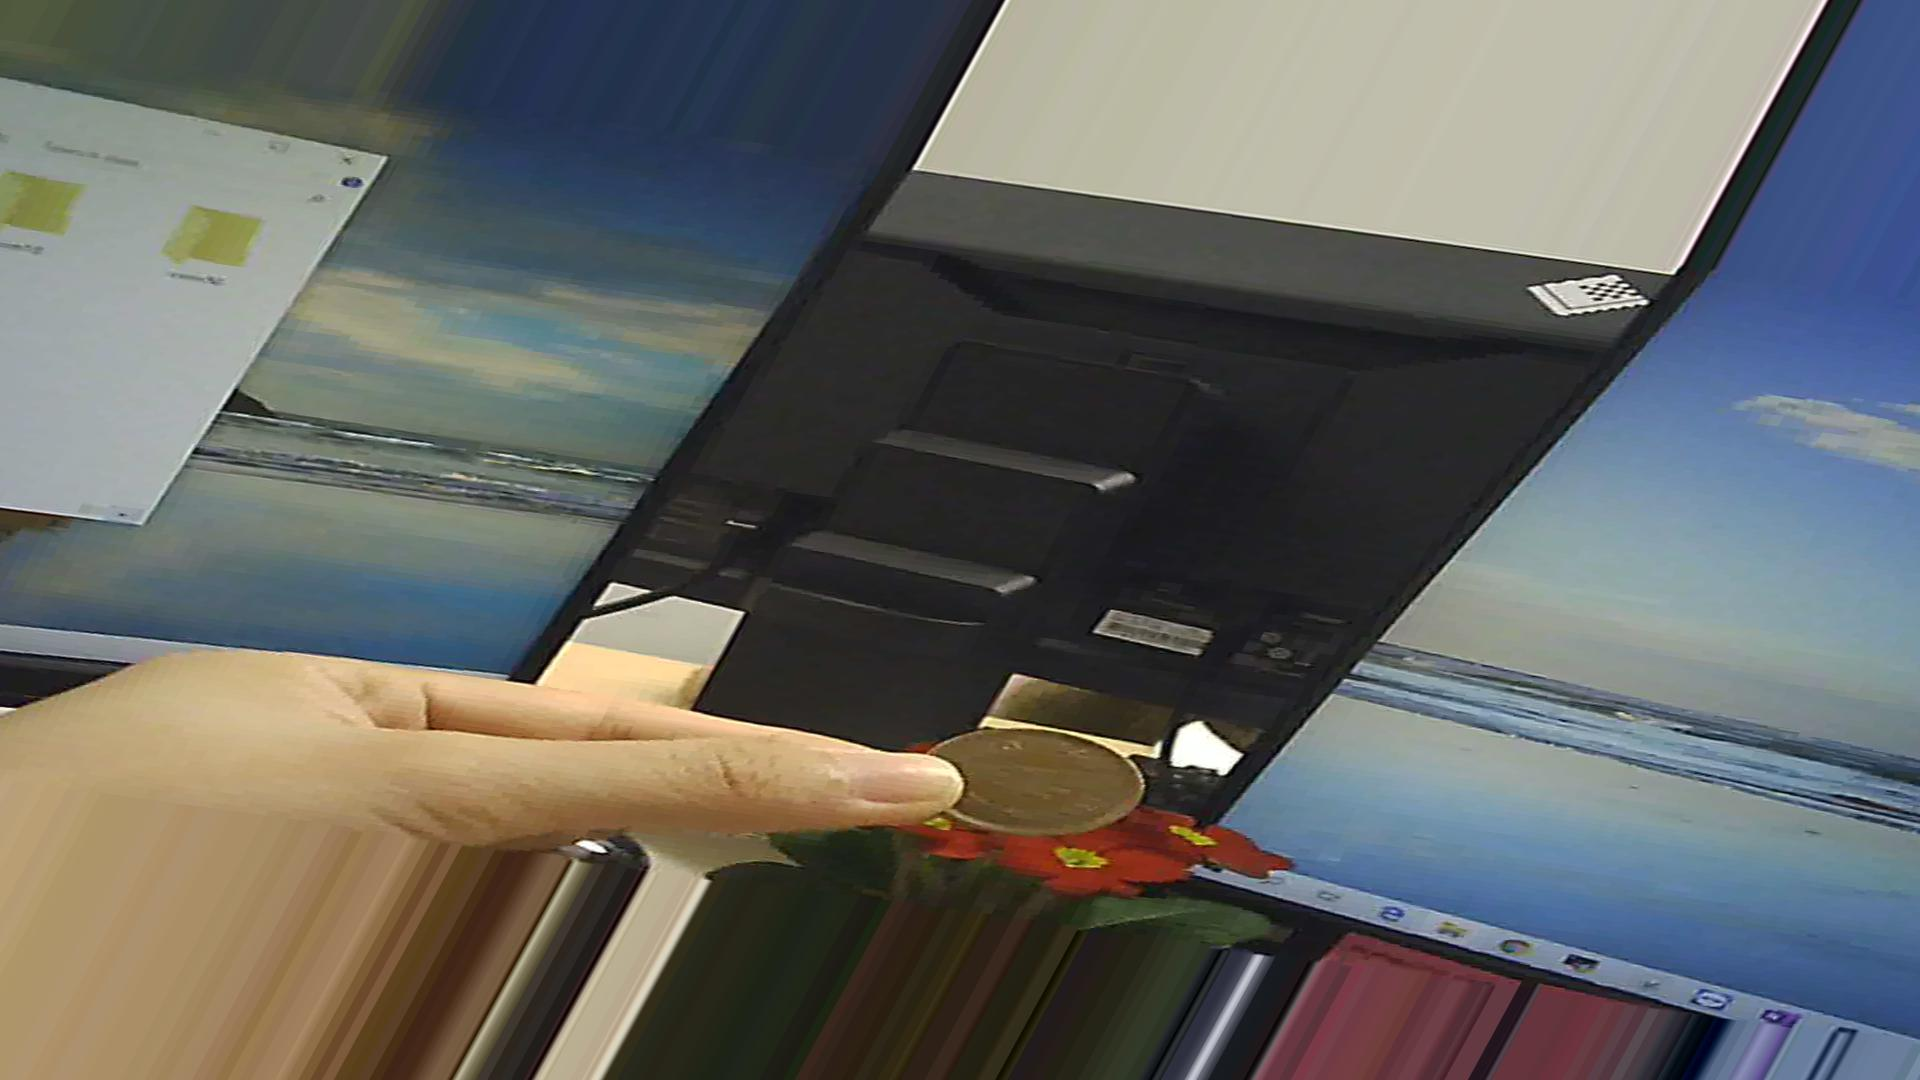10 Yen: (928, 719, 1150, 829)
